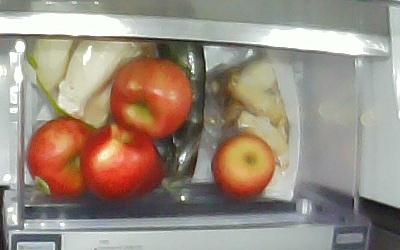apple: (109, 56, 192, 138), (79, 120, 159, 201), (25, 114, 97, 200), (210, 131, 275, 199)
